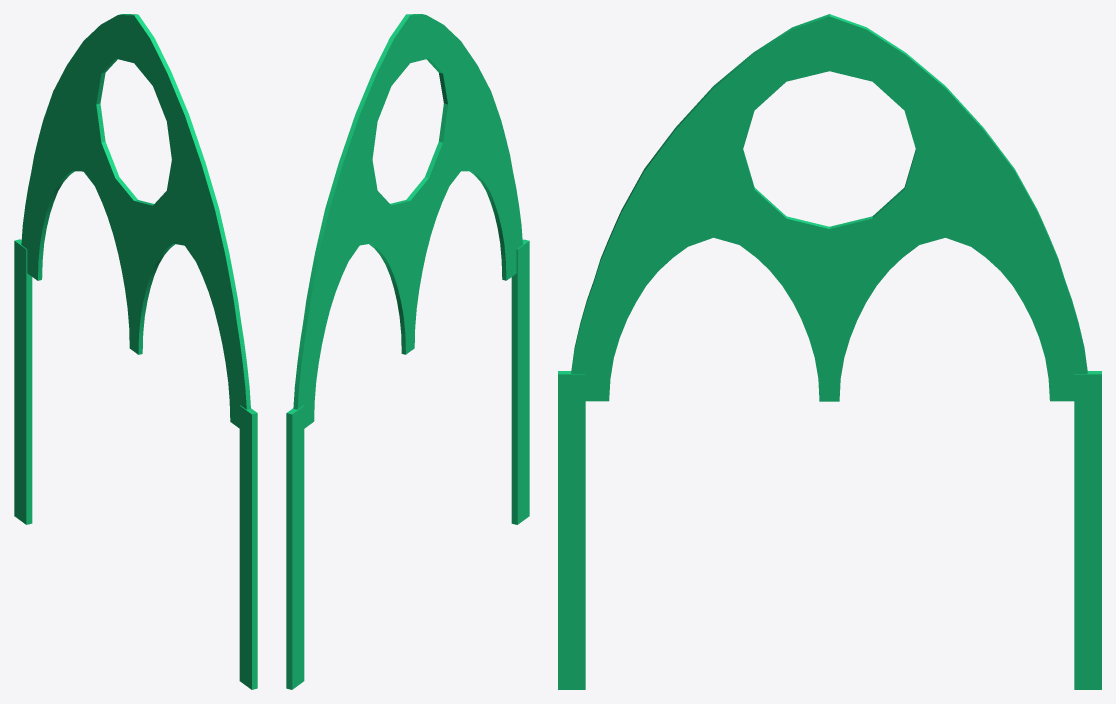
The model's file is Wall_Arc_02D_Lod0.fbx.
3 renders of one model, left to right at view 1: azimuth 30°, elevation 25°; view 2: azimuth 150°, elevation 25°; view 3: azimuth 270°, elevation 25°, orthographic. The views are drawn at different scales.
Visible parts, largest first — view 1: Wall_Arc_02D_Lod0; view 2: Wall_Arc_02D_Lod0; view 3: Wall_Arc_02D_Lod0.
Part boxes in pixels (x1,y1,x2,y2): Wall_Arc_02D_Lod0: [14, 14, 257, 689]; Wall_Arc_02D_Lod0: [286, 14, 529, 689]; Wall_Arc_02D_Lod0: [558, 14, 1101, 689].
Bounding box in the file's own units: 6.59 × 640 × 469.
